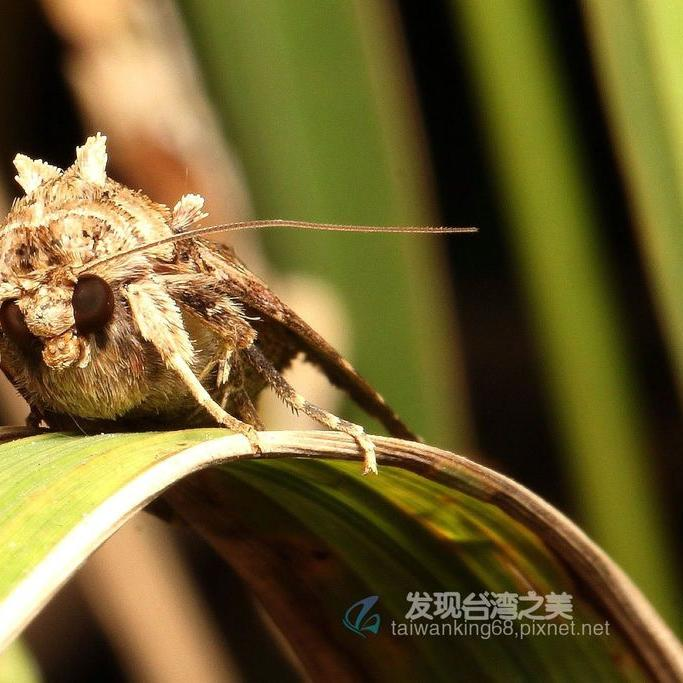Spodoptera litura: (1, 132, 479, 476)
